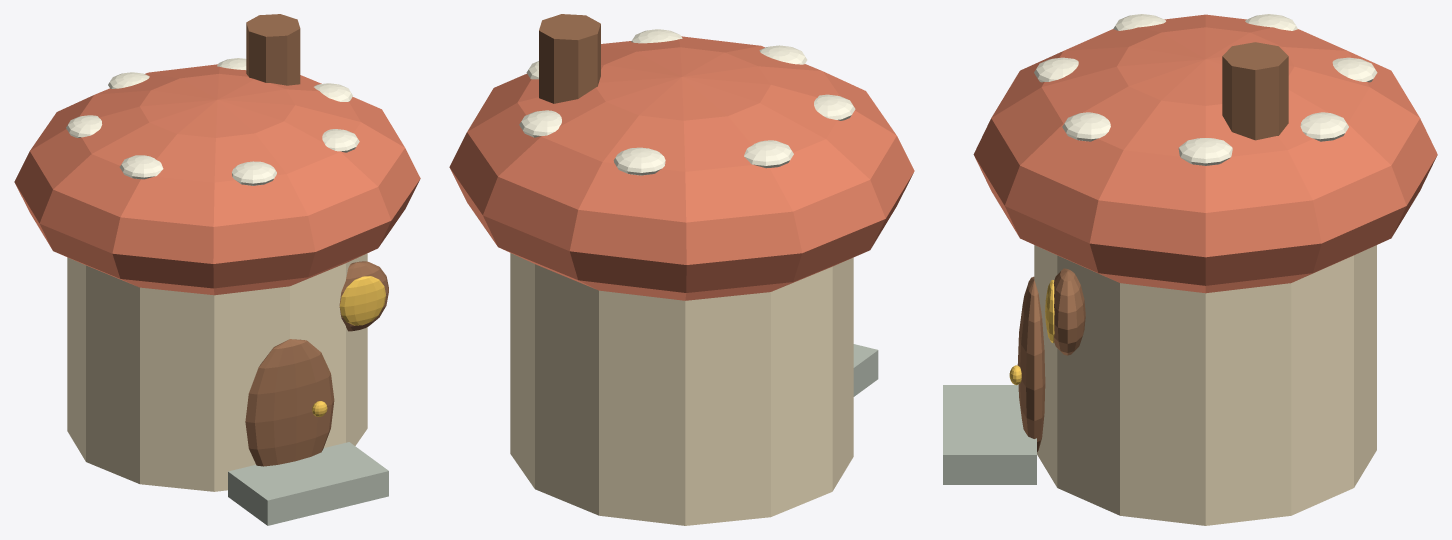
Rendered from AntHome.fbx.
3 views of the same model, side by side, from view 1: azimuth 30°, elevation 25°; view 2: azimuth 150°, elevation 25°; view 3: azimuth 270°, elevation 25° (orthographic). The views are drawn at different scales.
Visible parts, largest first — view 1: Mushroom roof, Stump home, Door, Step, Chimney, Window glow, Window rim, Roof spots.005, Roof spots.004, Roof spots.006, Roof spots.003, Roof spots (+1 smaller); view 2: Mushroom roof, Stump home, Chimney, Roof spots.002, Step, Roof spots.003, Roof spots.001, Roof spots.004, Roof spots.005, Roof spots.006; view 3: Mushroom roof, Stump home, Step, Chimney, Door, Window rim, Roof spots, Roof spots.006, Roof spots.001, Roof spots.002, Roof spots.005, Roof spots.004 (+1 smaller).
Part boxes in pixels (x1=…): Mushroom roof: x1=14, y1=64, x2=420, y2=295; Stump home: x1=67, y1=253, x2=367, y2=491; Door: x1=245, y1=339, x2=334, y2=466; Step: x1=228, y1=442, x2=388, y2=525; Chimney: x1=246, y1=14, x2=300, y2=85; Window glow: x1=339, y1=276, x2=386, y2=325; Window rim: x1=339, y1=261, x2=388, y2=331; Roof spots.005: x1=231, y1=161, x2=276, y2=185; Roof spots.004: x1=119, y1=155, x2=163, y2=179; Roof spots.006: x1=322, y1=129, x2=359, y2=152; Roof spots.003: x1=66, y1=115, x2=102, y2=137; Roof spots: x1=314, y1=83, x2=352, y2=101; Mushroom roof: x1=449, y1=36, x2=914, y2=300; Stump home: x1=510, y1=253, x2=853, y2=525; Chimney: x1=539, y1=14, x2=600, y2=103; Roof spots.002: x1=613, y1=147, x2=665, y2=175; Step: x1=853, y1=344, x2=878, y2=396; Roof spots.003: x1=744, y1=140, x2=793, y2=168; Roof spots.001: x1=519, y1=110, x2=561, y2=137; Roof spots.004: x1=814, y1=94, x2=855, y2=120; Roof spots.005: x1=759, y1=45, x2=807, y2=64; Roof spots.006: x1=631, y1=29, x2=682, y2=43; Mushroom roof: x1=973, y1=14, x2=1437, y2=293; Stump home: x1=1034, y1=245, x2=1376, y2=525; Step: x1=943, y1=385, x2=1036, y2=484; Chimney: x1=1222, y1=42, x2=1288, y2=140; Door: x1=1017, y1=276, x2=1045, y2=451; Window rim: x1=1053, y1=268, x2=1085, y2=355; Roof spots: x1=1178, y1=138, x2=1232, y2=165; Roof spots.006: x1=1062, y1=112, x2=1110, y2=141; Roof spots.001: x1=1300, y1=112, x2=1348, y2=141; Roof spots.002: x1=1332, y1=57, x2=1377, y2=82; Roof spots.005: x1=1034, y1=57, x2=1078, y2=82; Roof spots.004: x1=1113, y1=14, x2=1165, y2=30.
Size of the model in its own units: 176 by 175 by 179.
